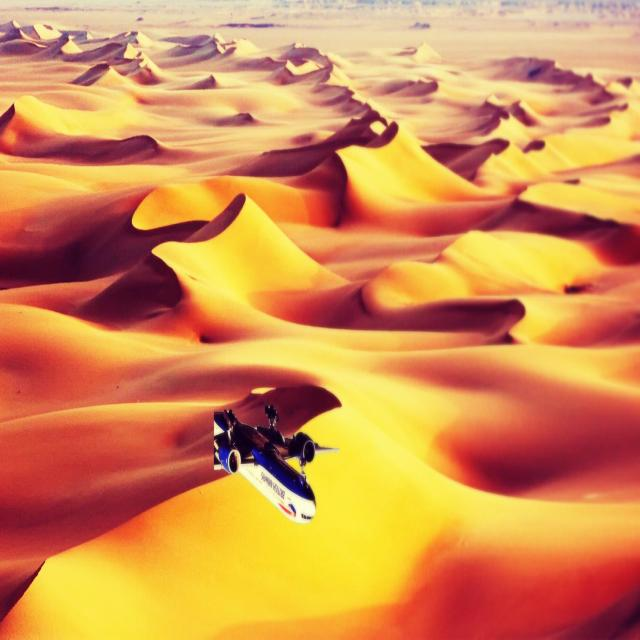airplane: (212, 401, 340, 524)
